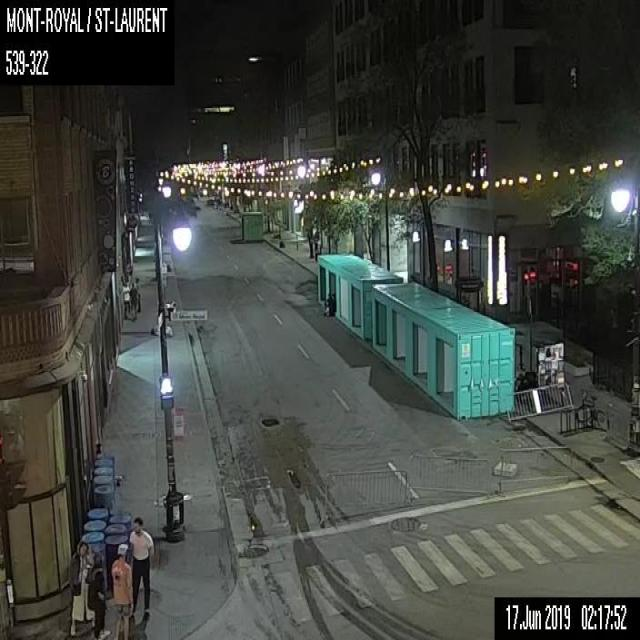construction: (321, 467, 406, 520), (496, 443, 570, 489), (416, 449, 489, 495), (509, 378, 572, 418)
pedestrian: (128, 516, 154, 619), (69, 538, 94, 638), (110, 542, 133, 639), (88, 552, 110, 639), (323, 291, 335, 317), (129, 282, 137, 318), (134, 276, 140, 312)
